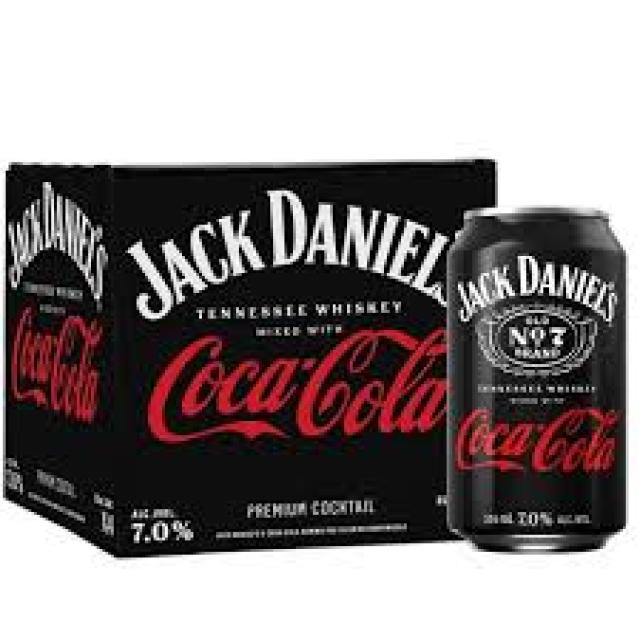Cans: (441, 193, 631, 558)
